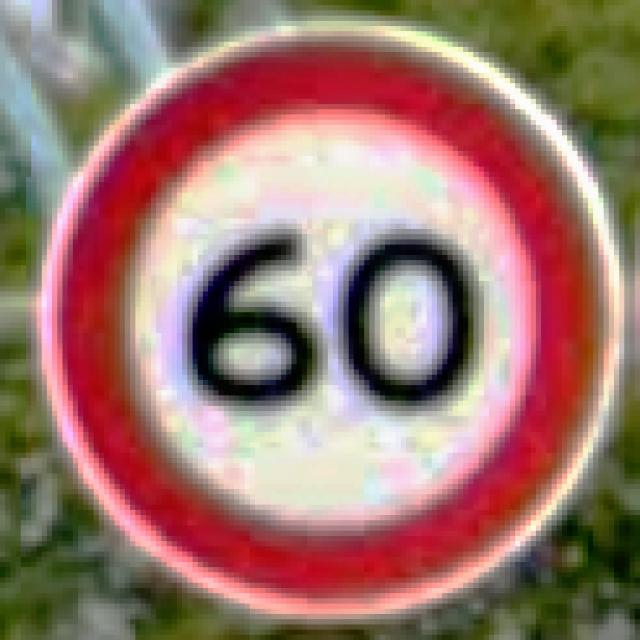max60: (31, 11, 624, 620)
